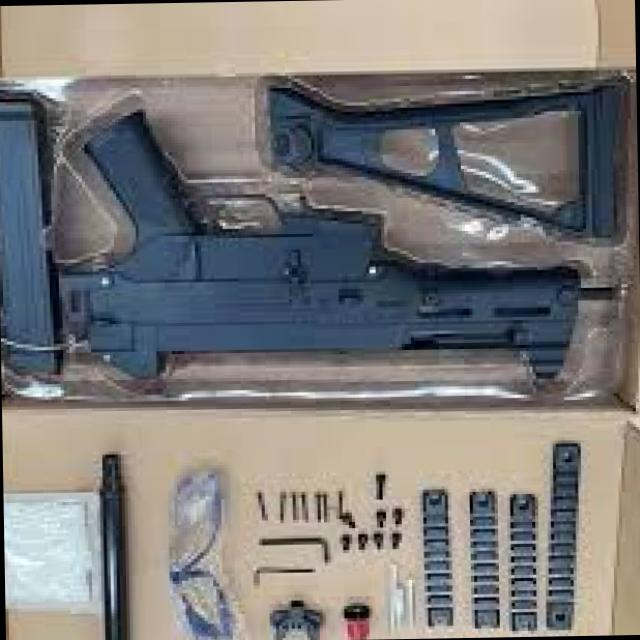Gun: (5, 97, 640, 403)
